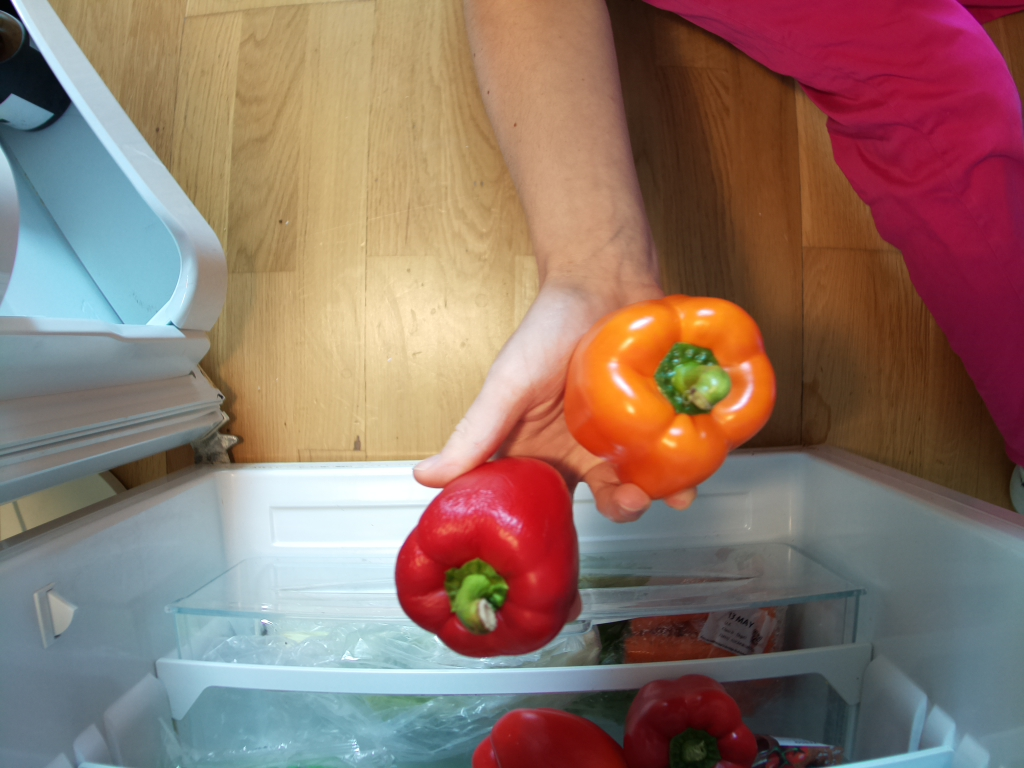pepper: (565, 295, 777, 499), (626, 674, 758, 768), (472, 706, 625, 768)
pepper-bad: (396, 457, 580, 657)
